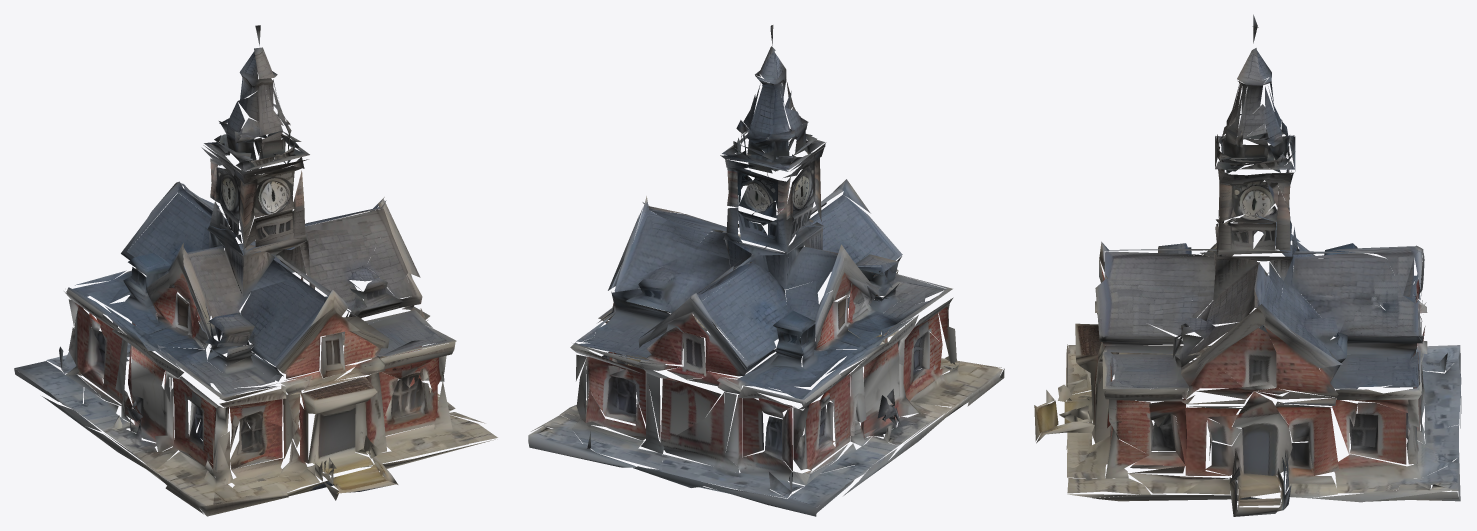
The model's file is settlement_lod1.glb.
3 views of the same model, side by side, from view 1: azimuth 30°, elevation 25°; view 2: azimuth 150°, elevation 25°; view 3: azimuth 270°, elevation 25° (orthographic). The views are drawn at different scales.
Visible parts, largest first — view 1: body; view 2: body; view 3: body.
Part boxes in pixels (<box>): body: <box>14,25,497,516</box>; body: <box>528,25,1004,516</box>; body: <box>1034,14,1461,516</box>.
Bounding box in the file's own units: 10.38 × 12.44 × 11.63.
1 material, 1 textured.
